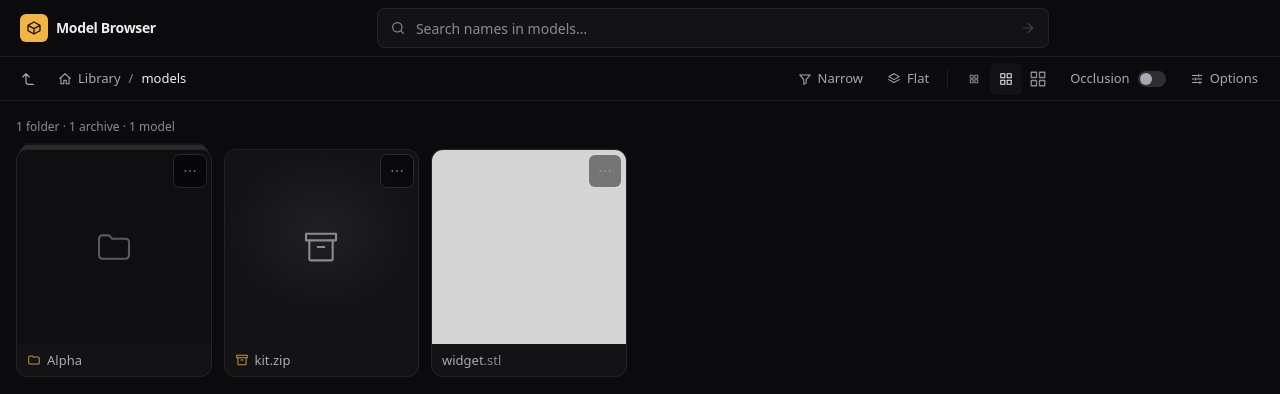
Scenario: Open with… follows the configured chooser › is offered on a model when a chooser is configured
Press the mouse on the button "widget.stl" at (529, 263), box [431, 149, 626, 377]
Right-click the button "widget.stl".
right_click(529, 263)  # box [431, 149, 626, 377]
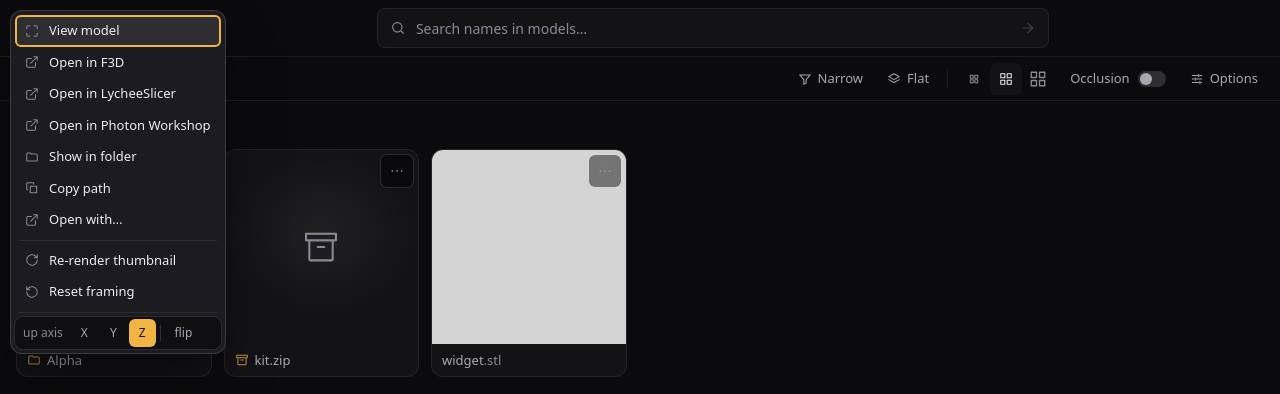
Check: the menu item "Open with…" is shown, box [15, 204, 220, 236]
